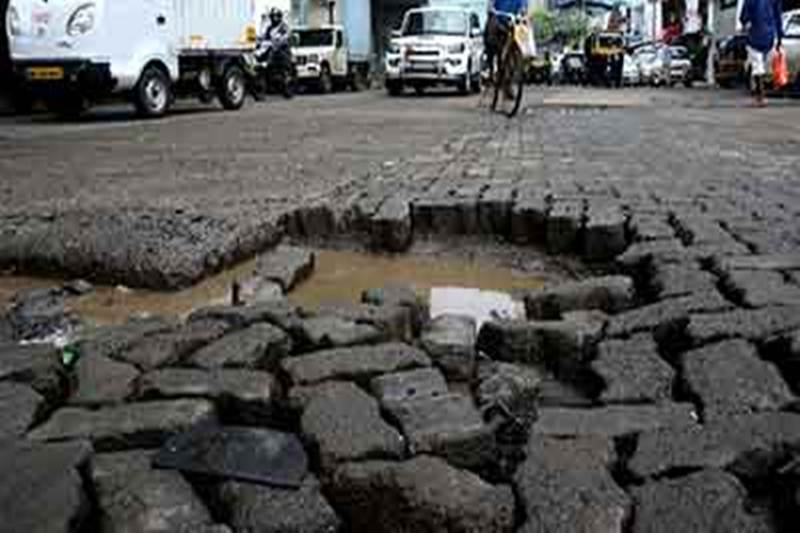pothole: (0, 186, 652, 331)
